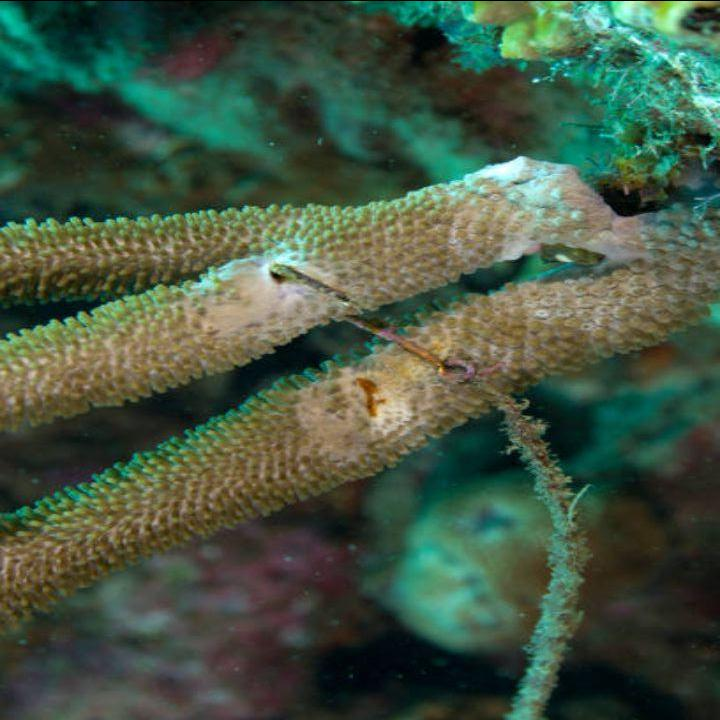Band disease: (201, 147, 657, 515)
